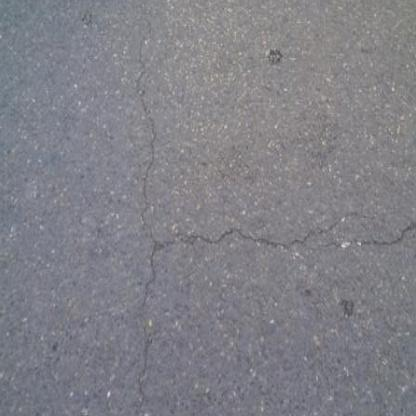Cracks: (115, 0, 176, 416), (164, 211, 416, 263)
